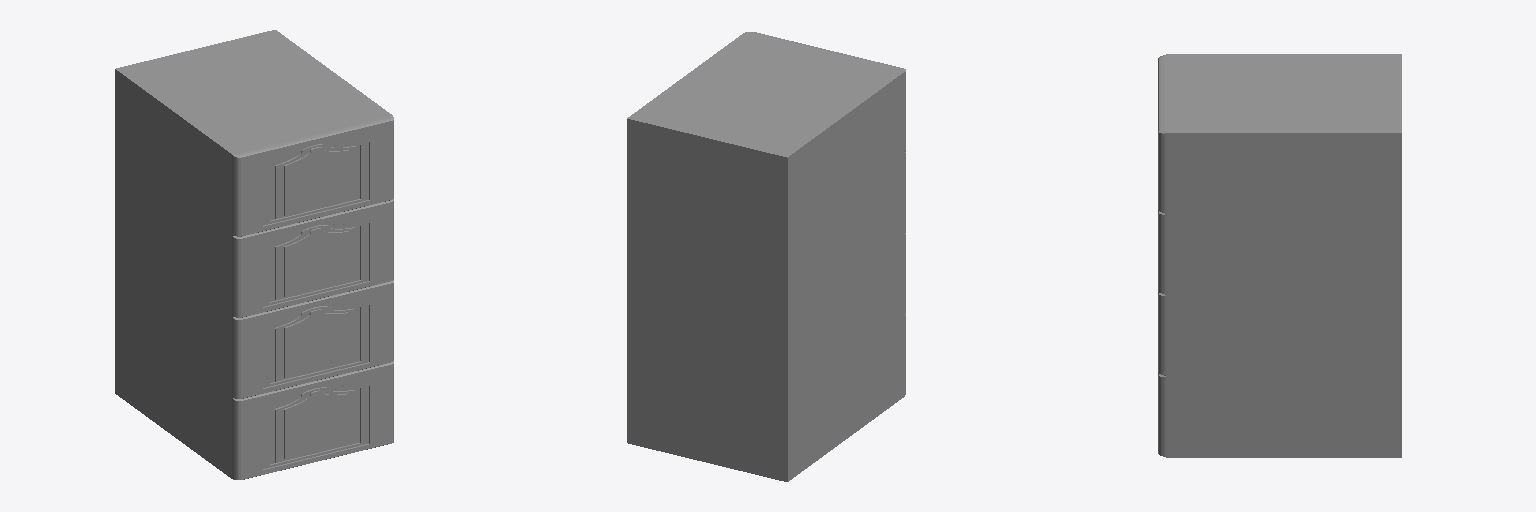
The model's file is drawer-pack-450.obj.
3 views of the same model, side by side, from view 1: azimuth 30°, elevation 25°; view 2: azimuth 150°, elevation 25°; view 3: azimuth 270°, elevation 25° (orthographic).
Parts seen in each view (by area): view 1: Cube.002_Cube.004, Cube_Cube.002, Cube.006_Cube.005, Cube.003_Cube.008, Cube.004_Cube.000, Cube.005_Cube.001, Cube.001_Cube.003; view 2: Cube_Cube.002, Cube.002_Cube.004, Cube.001_Cube.003, Cube.006_Cube.005; view 3: Cube.001_Cube.003, Cube_Cube.002, Cube.006_Cube.005, Cube.003_Cube.008, Cube.004_Cube.000, Cube.005_Cube.001, Cube.002_Cube.004.
Part boxes in pixels (x1,y1,x2,y2): Cube.002_Cube.004: (115, 68, 236, 478); Cube_Cube.002: (120, 31, 386, 152); Cube.006_Cube.005: (232, 116, 393, 236); Cube.003_Cube.008: (232, 361, 393, 479); Cube.004_Cube.000: (232, 280, 393, 398); Cube.005_Cube.001: (232, 199, 393, 317); Cube.001_Cube.003: (271, 30, 392, 116); Cube_Cube.002: (632, 34, 898, 480); Cube.002_Cube.004: (782, 70, 904, 481); Cube.001_Cube.003: (627, 33, 748, 443); Cube.006_Cube.005: (745, 32, 905, 151); Cube.001_Cube.003: (1167, 130, 1401, 457); Cube_Cube.002: (1167, 57, 1401, 129); Cube.006_Cube.005: (1158, 54, 1166, 213); Cube.003_Cube.008: (1158, 373, 1166, 457); Cube.004_Cube.000: (1158, 292, 1166, 375); Cube.005_Cube.001: (1158, 210, 1166, 294); Cube.002_Cube.004: (1167, 54, 1401, 56).
Bounding box in the file's own units: 90 × 174 × 118.